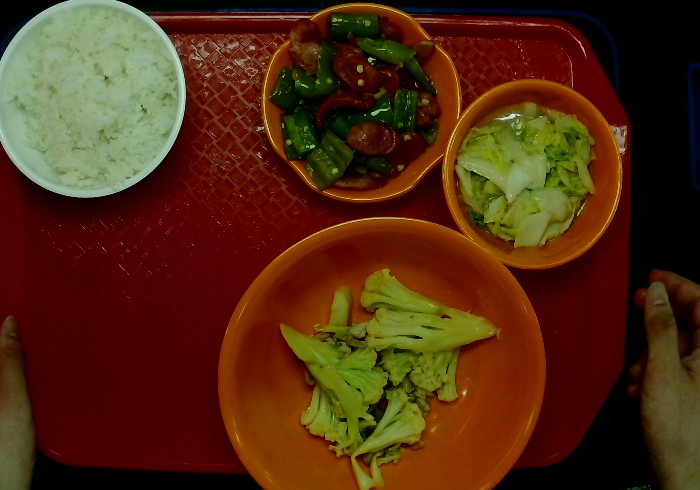YKMZ-Fan_Wan: (5, 4, 183, 200)
YKMZ-Ju_Se_Ao_Bian_Wan: (261, 10, 461, 203)
YKMZ-Ju_Se_Tang_Wan: (214, 209, 546, 490)
YKMZ-Ju_Se_Yuan_Wan: (442, 77, 623, 268)
